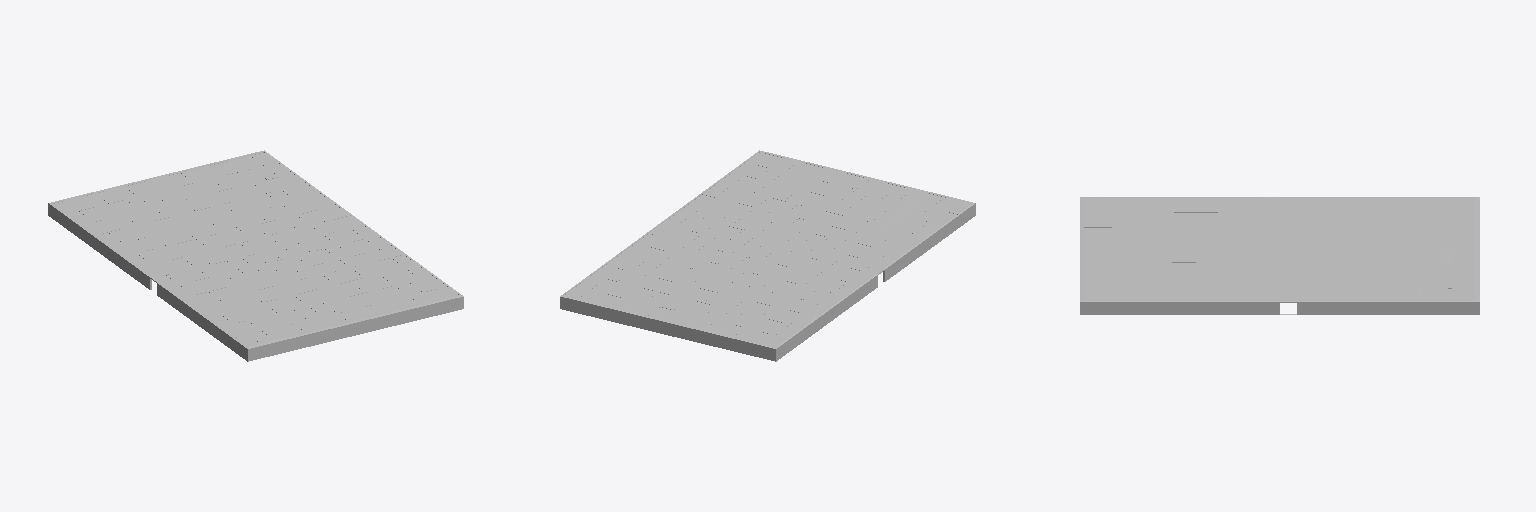
The model's file is migong.obj.
The picture shows the model from 3 angles: view 1: azimuth 30°, elevation 25°; view 2: azimuth 150°, elevation 25°; view 3: azimuth 270°, elevation 25°; orthographic projection.
Visible parts, largest first — view 1: pPlane1 group1, group1 polySurface12; view 2: pPlane1 group1, group1 polySurface12; view 3: pPlane1 group1, group1 polySurface12.
Part boxes in pixels (left/top/right/bottom): pPlane1 group1: left=53, top=150, right=462, bottom=346; group1 polySurface12: left=48, top=151, right=463, bottom=361; pPlane1 group1: left=561, top=150, right=970, bottom=346; group1 polySurface12: left=560, top=151, right=975, bottom=361; pPlane1 group1: left=1081, top=197, right=1478, bottom=302; group1 polySurface12: left=1080, top=197, right=1479, bottom=314.
Bounding box in the file's own units: 103 × 6.03 × 164.